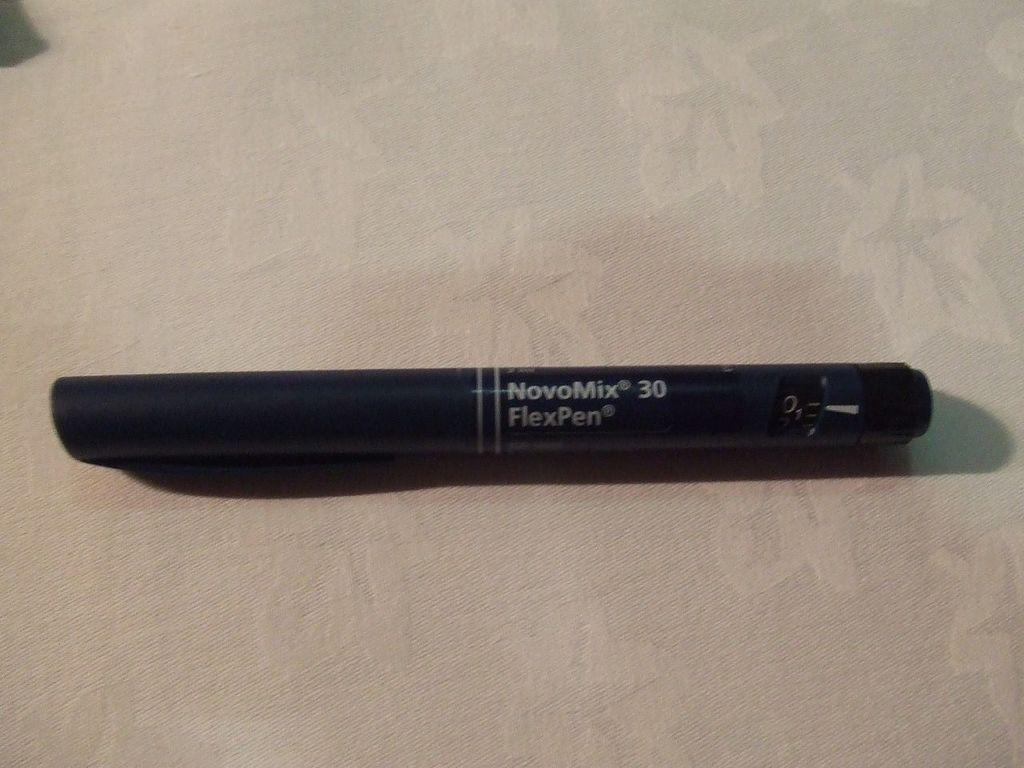pen: (45, 365, 929, 473)
